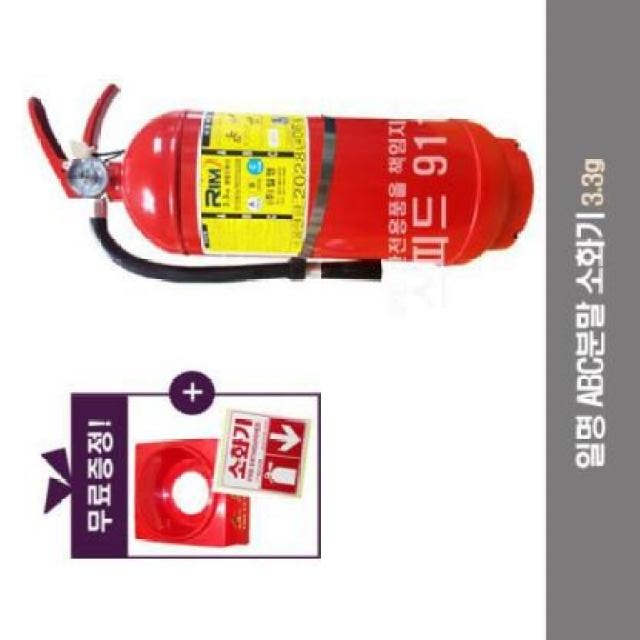fire extinguisher: (28, 82, 535, 286)
